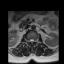CCS_normal: (30, 38, 32, 46)
LFS_normal: (34, 38, 35, 43)
LLS_normal: (32, 38, 34, 43)
RFS_normal: (27, 38, 29, 43)
RLS_normal: (29, 37, 30, 43)
